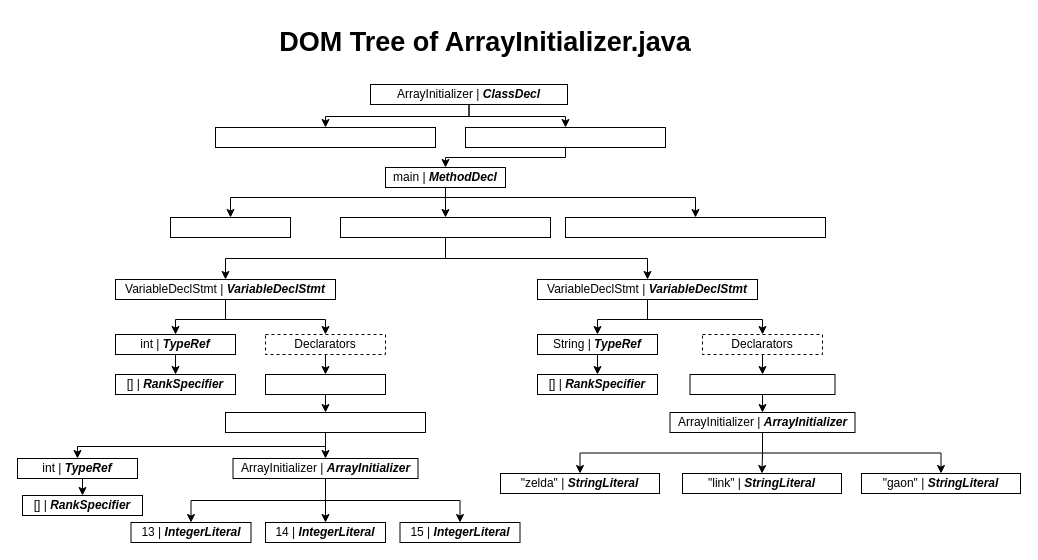
This 1038x560 diagram has some shape labels left out. Here are the shapes that lost their labels. From the top down, the box of each, then its label:
(214, 126, 436, 148): Type References | TypeRefCollection
(464, 126, 666, 148): Members | MemberDeclCollection
(170, 216, 290, 238): void | TypeRef
(340, 216, 550, 238): Statements | StatementCollection
(564, 216, 826, 238): Parameter Declarator | ParamDeclCollection
(264, 374, 386, 394): intArray | Declarator
(689, 374, 835, 394): stringArray| Declarator
(224, 412, 426, 432): ArrayCreateExpr | ArrayCreateExpr
